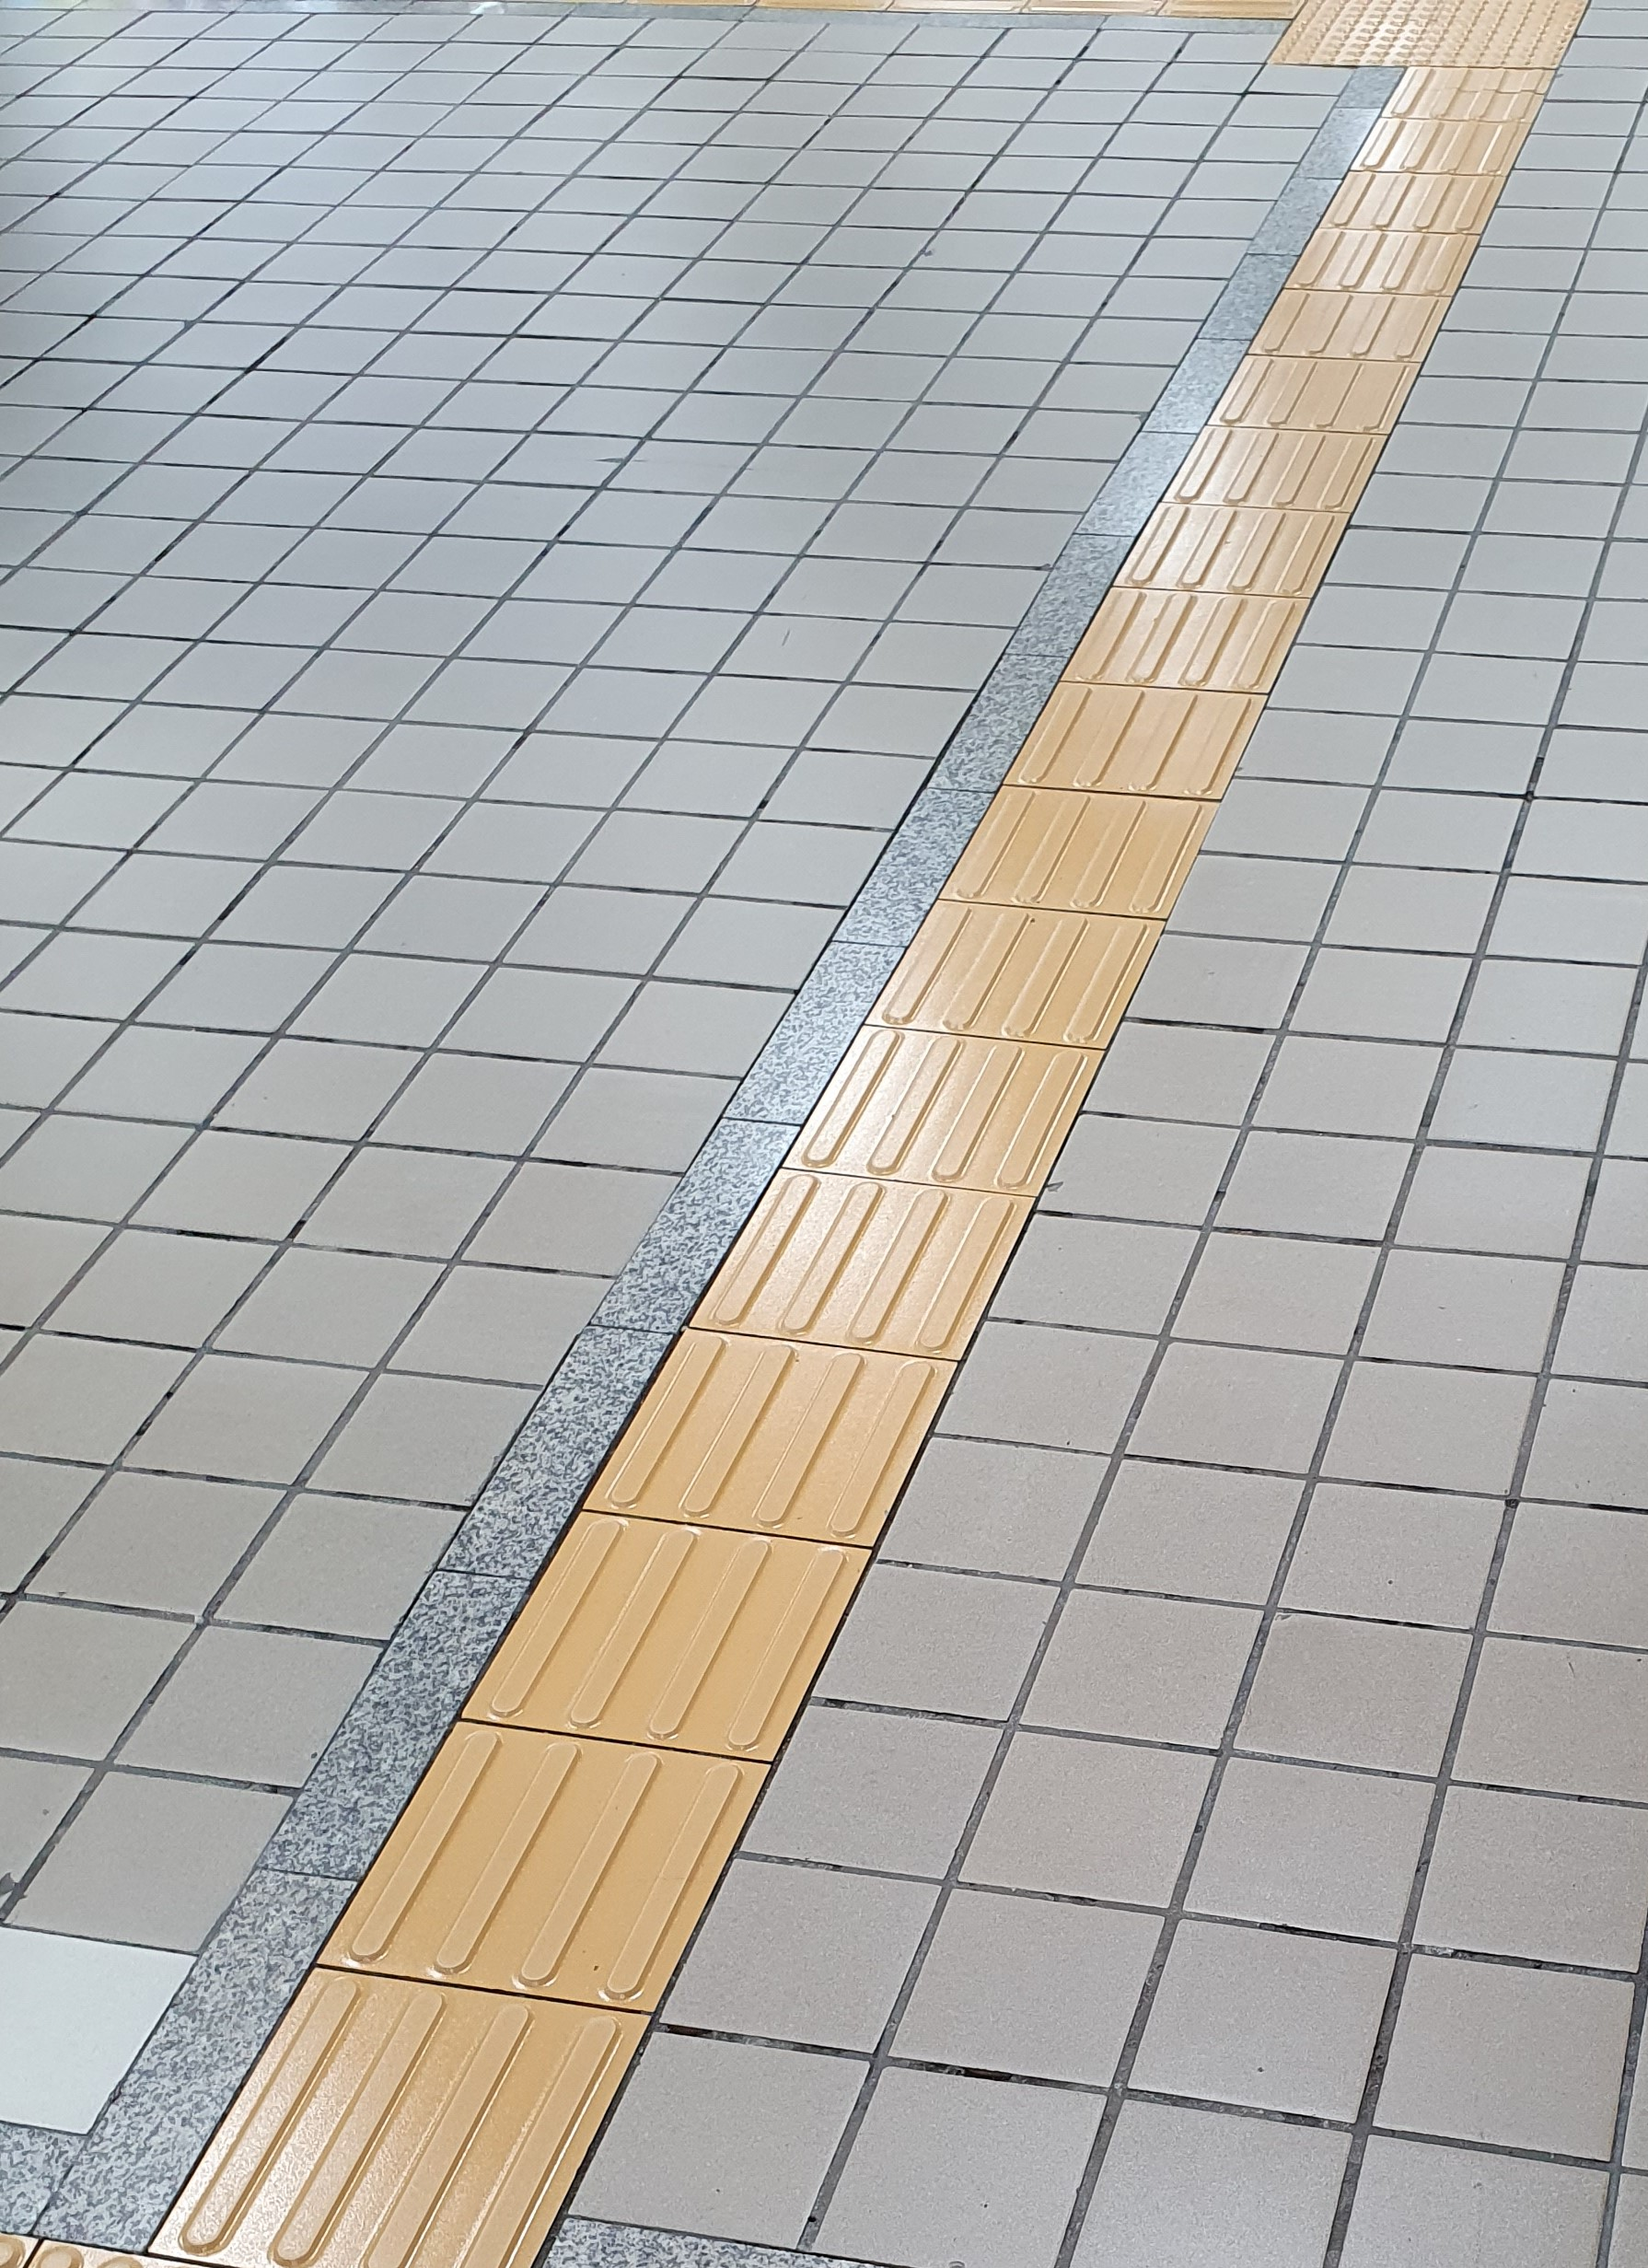guideBlock: (445, 1731, 798, 1999), (268, 1992, 606, 2257), (657, 1340, 912, 1548), (805, 1178, 1035, 1344), (907, 896, 1143, 1037), (836, 1028, 1039, 1187), (579, 1558, 805, 1694), (979, 785, 1199, 923), (1042, 690, 1227, 819), (1160, 511, 1321, 606), (1238, 361, 1409, 444), (1208, 433, 1373, 516), (1120, 600, 1275, 678)
